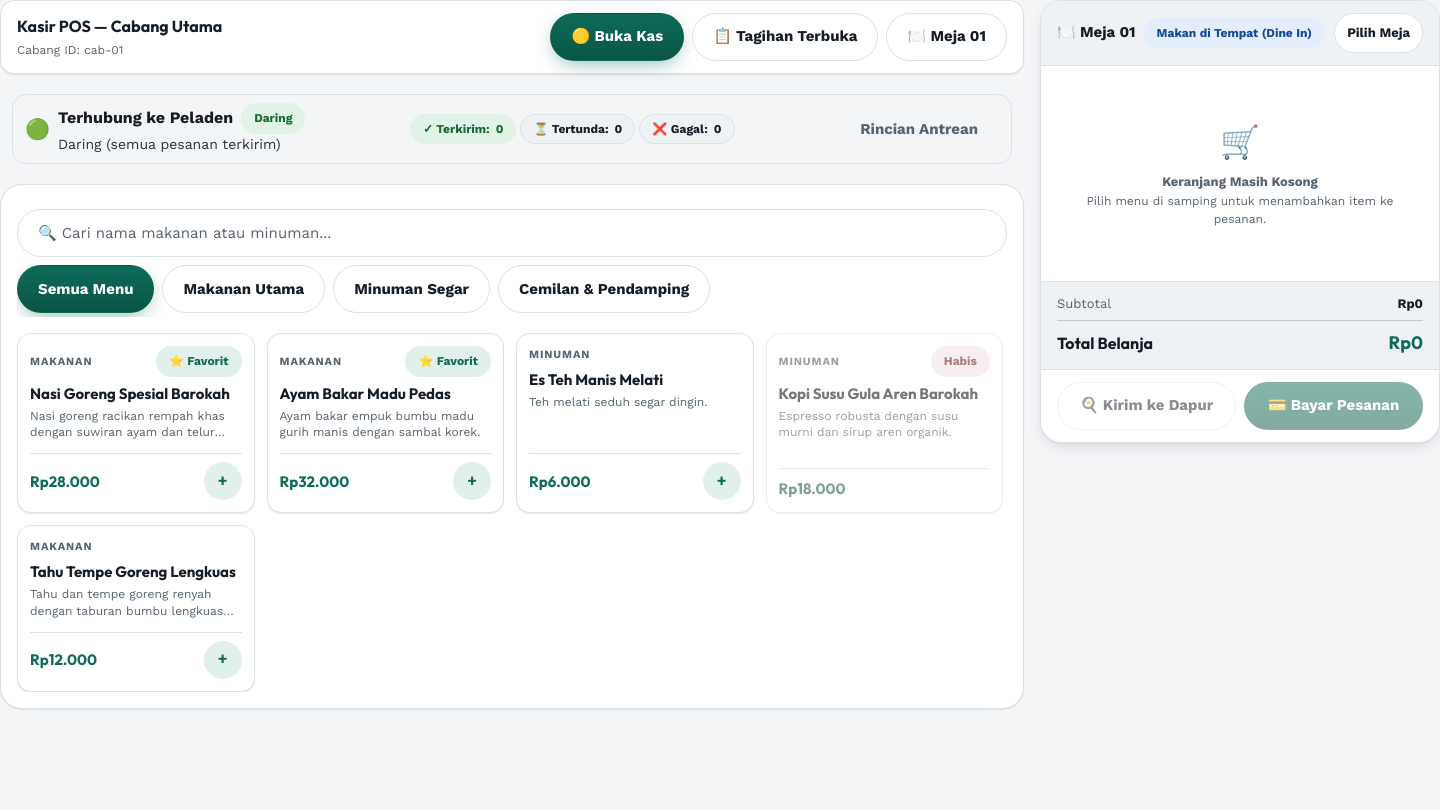
LayarKasir ↔ VoucherKasir (T8-09, alur cek & pakai voucher) › dapat beralih ke tab voucher promo dan memeriksa kode voucher
Click the text "Tahu Tempe Goreng Lengkuas" at (136, 573), box 30,563 -> 242,582
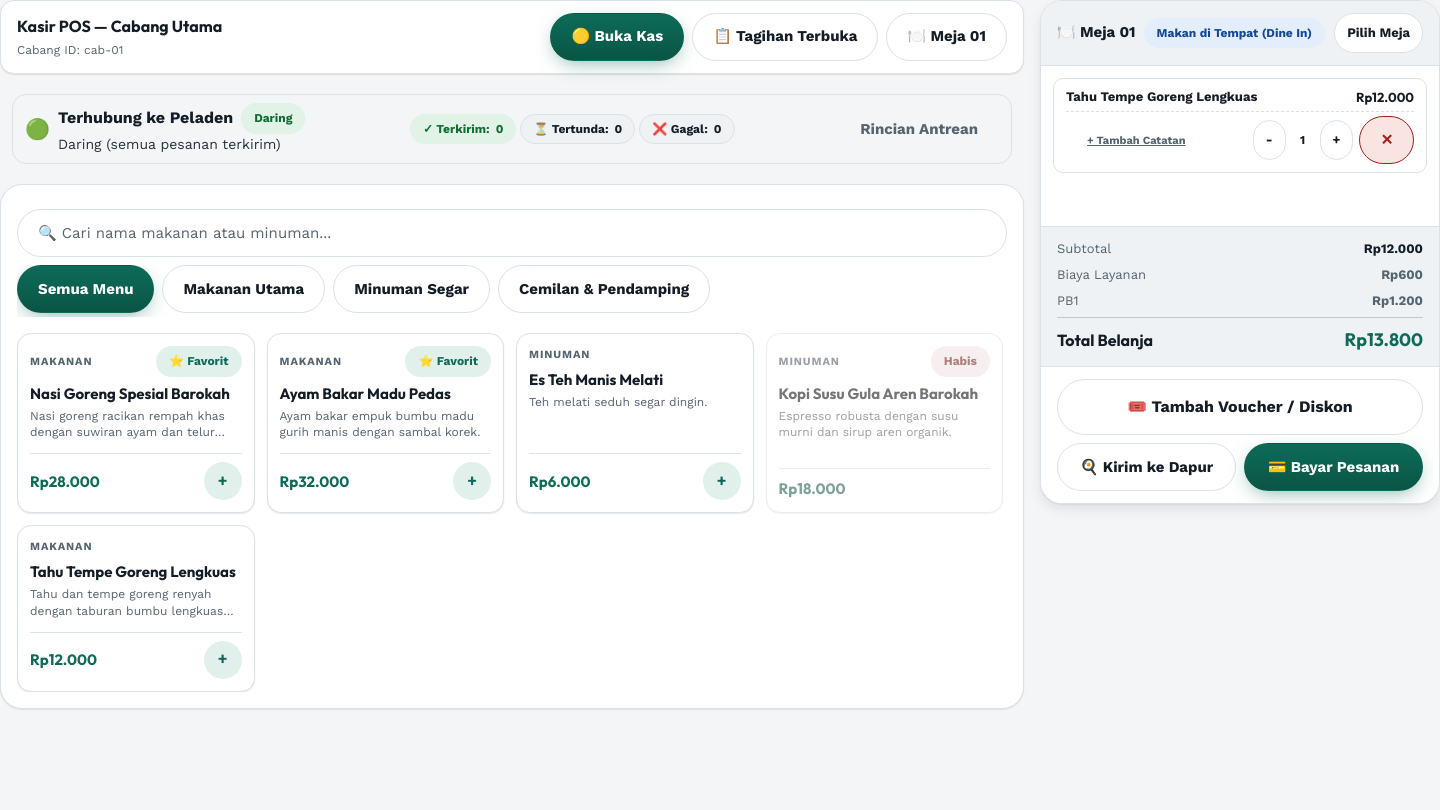
Click the button "🎟️ Tambah Voucher / Diskon" at (1240, 407), box 1057,379 -> 1423,435
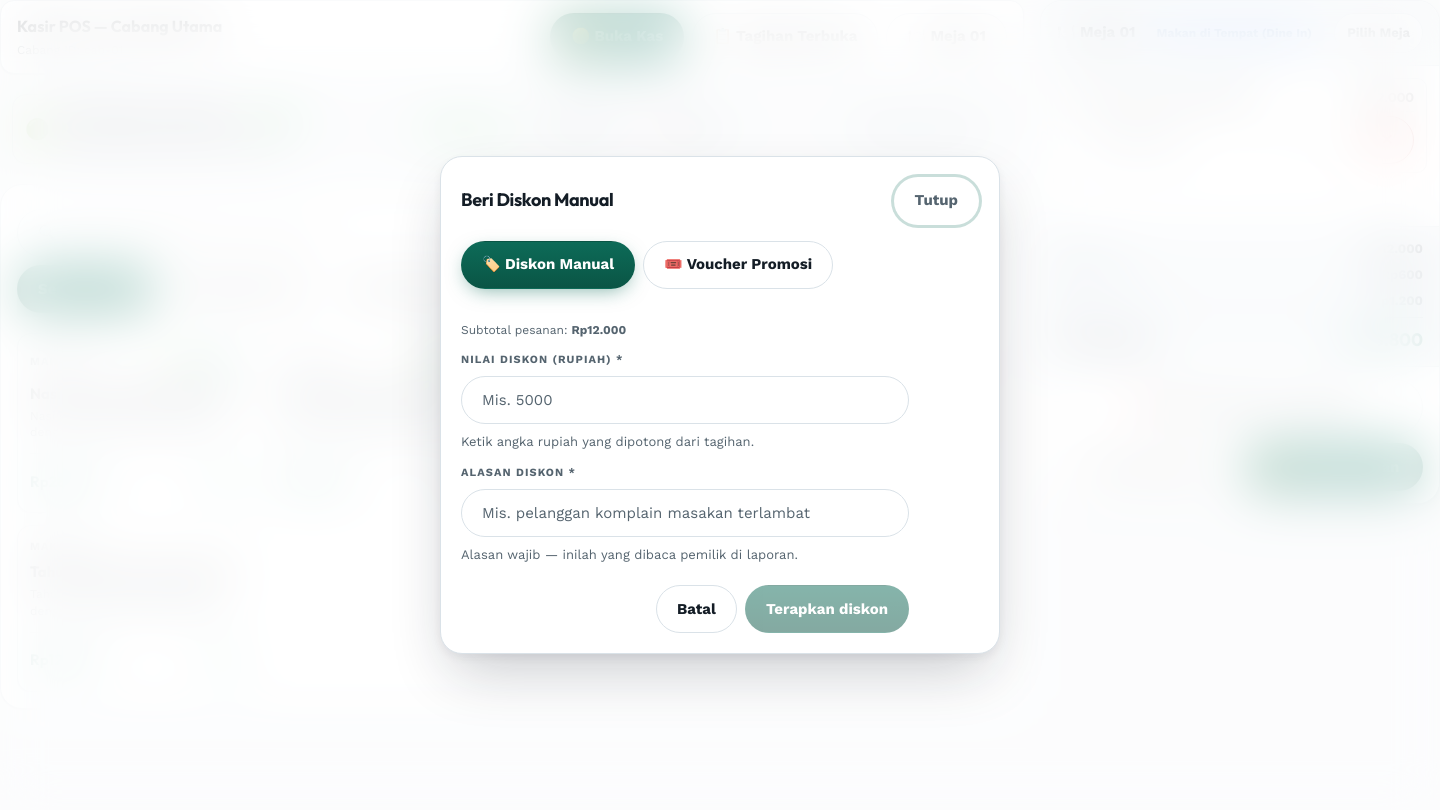
Click the button with aria-label "Tab Voucher Promo" at (738, 264), box 643,240 -> 833,288
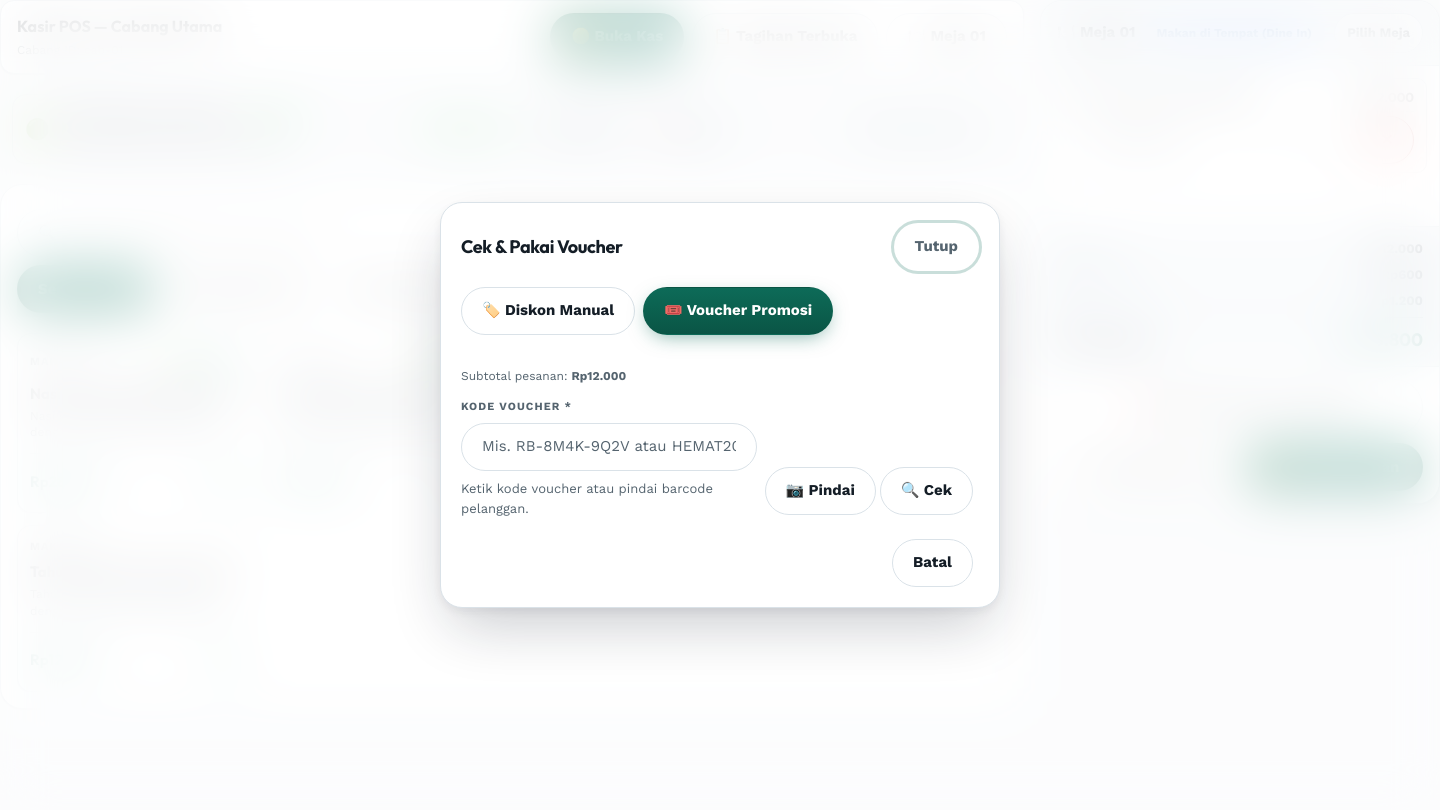
Result: the element with test id "voucher-kasir" is shown at 461,367 -> 973,587
Type "VC-HEMAT20" into the field labelled "Kode voucher *" at (609, 447), box 461,423 -> 757,471
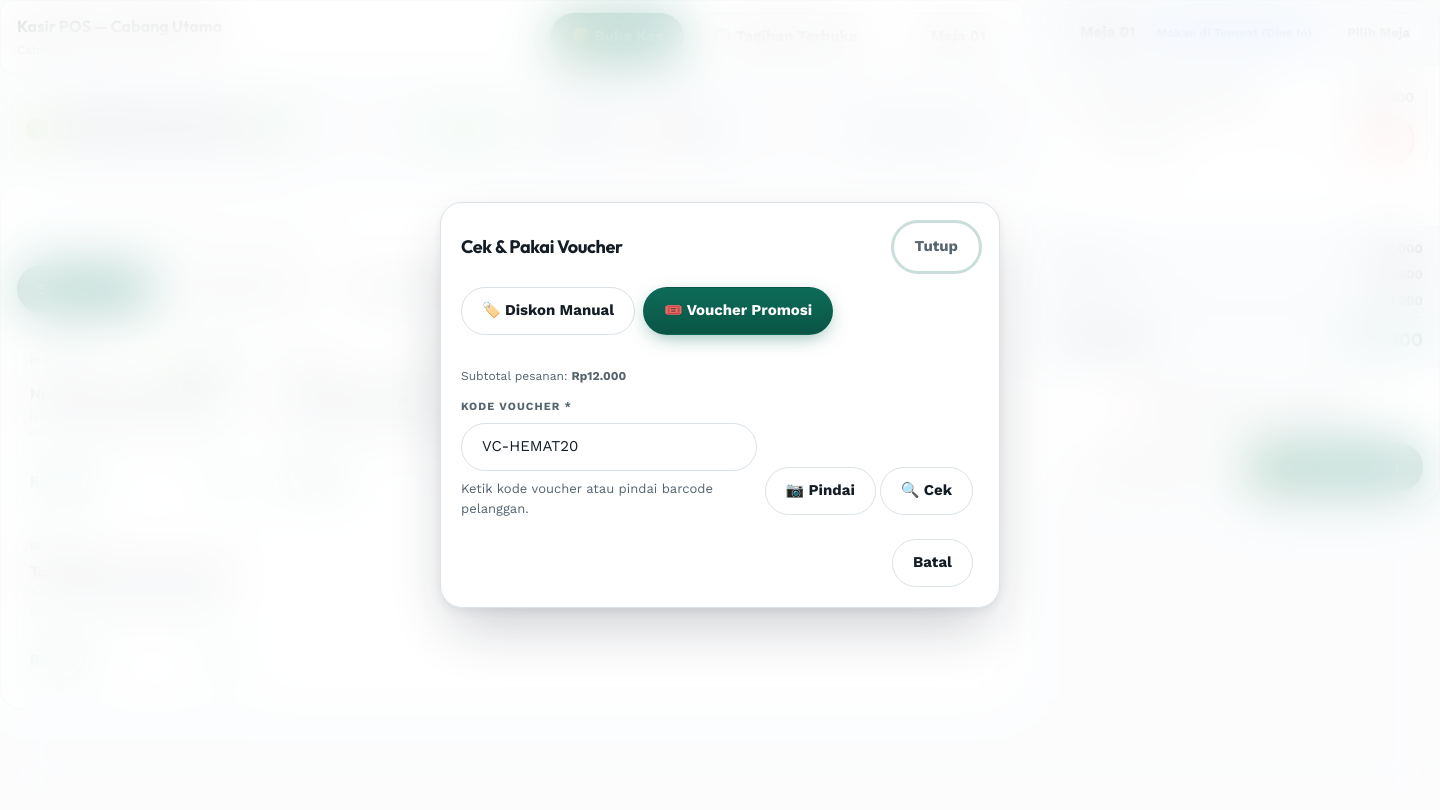
Click the button with aria-label "Cek voucher" at (926, 491), box 880,467 -> 973,515
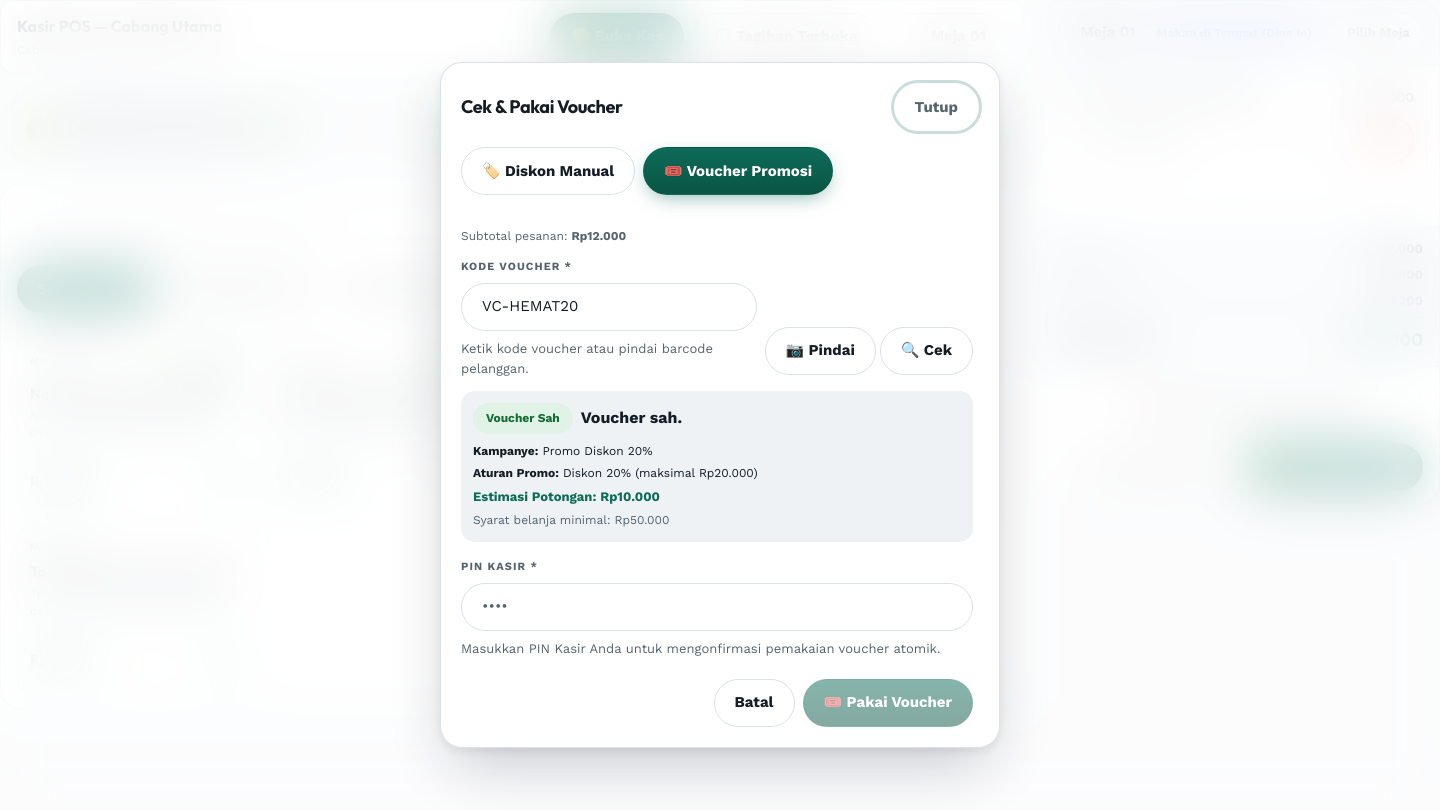
Result: the element with test id "voucher-hasil-cek-sukses" is shown at 461,391 -> 973,542
Result: the text "Promo Diskon 20%" is shown at 542,444 -> 652,458
